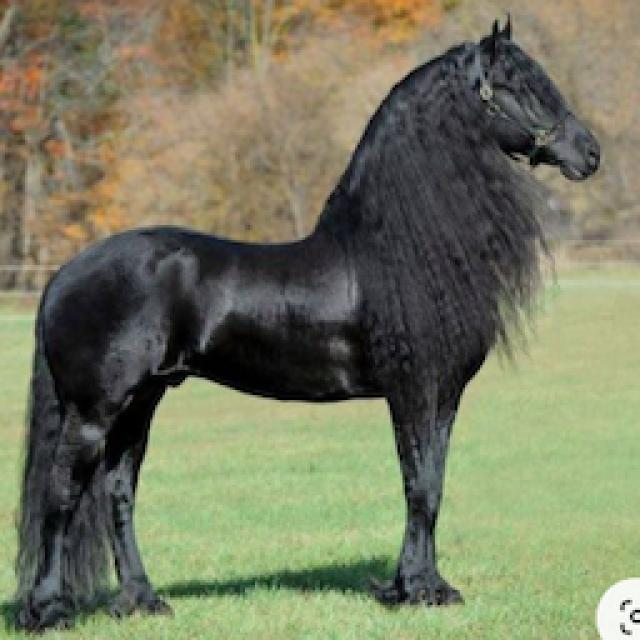Horse: (0, 10, 608, 635)
